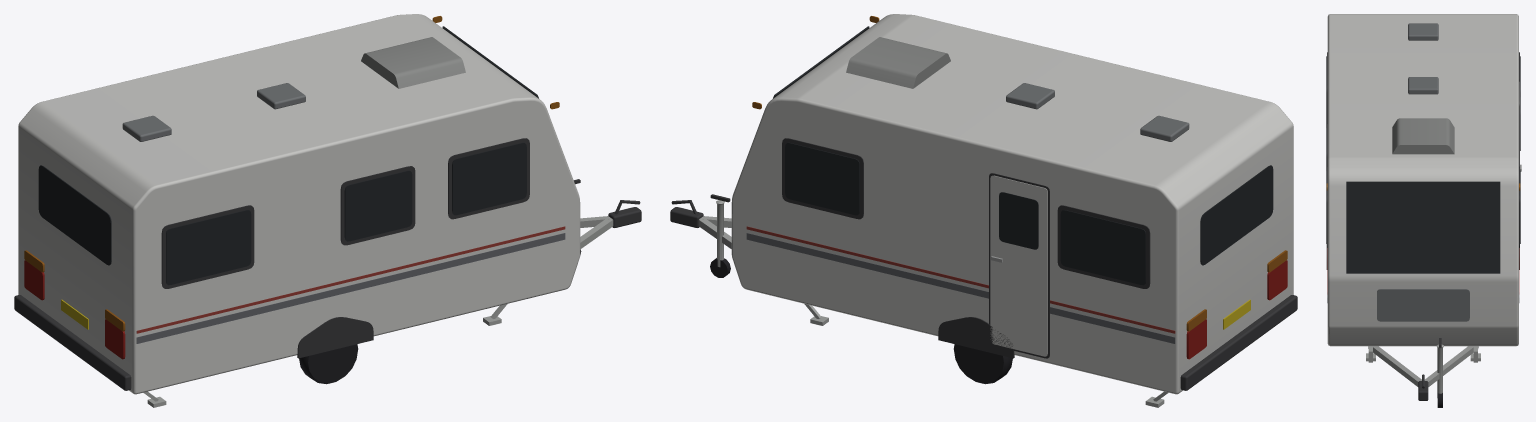
The model's file is SM_Prop_touring_caravan_0.glb.
The picture shows the model from 3 angles, left to right: view 1: azimuth 30°, elevation 25°; view 2: azimuth 150°, elevation 25°; view 3: azimuth 270°, elevation 25°; orthographic projection. The views are drawn at different scales.
Parts seen in each view (by area): view 1: SM_Prop_touring_caravan_0; view 2: SM_Prop_touring_caravan_0; view 3: SM_Prop_touring_caravan_0.
Part boxes in pixels (bbox=[...]): SM_Prop_touring_caravan_0: bbox=[14, 14, 641, 407]; SM_Prop_touring_caravan_0: bbox=[670, 14, 1297, 407]; SM_Prop_touring_caravan_0: bbox=[1326, 14, 1521, 407].
Size of the model in its own units: 6.38 by 2.72 by 2.31.
